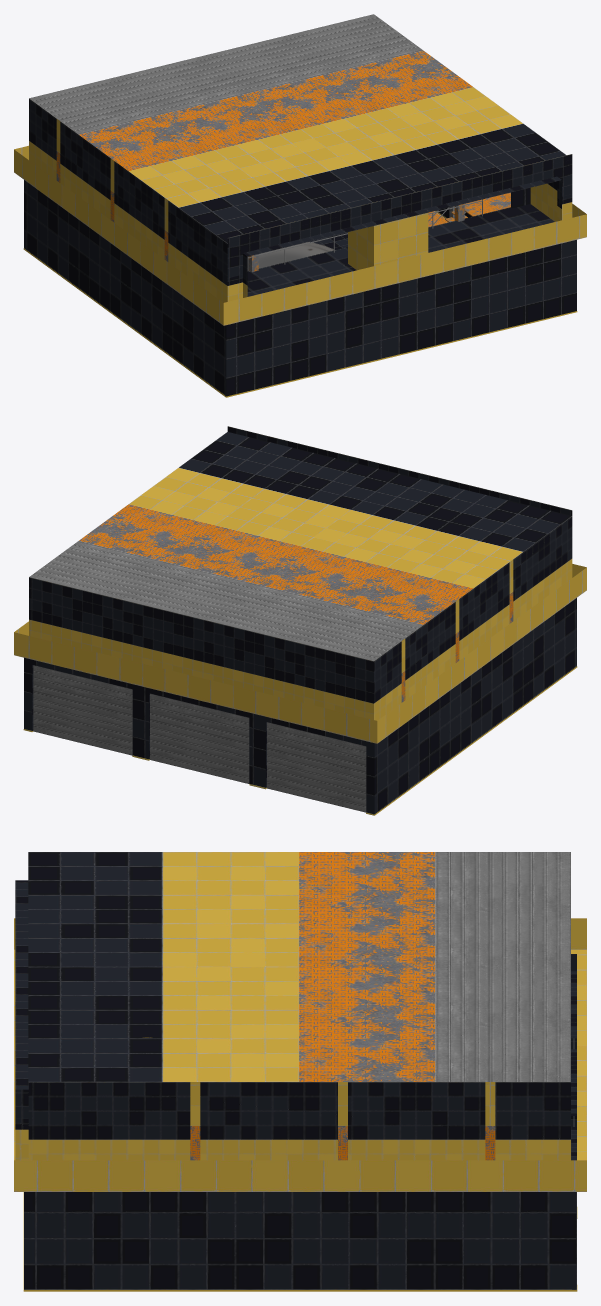
The model's file is garage1.fbx.
3 renders of one model, top to bottom at view 1: azimuth 30°, elevation 25°; view 2: azimuth 150°, elevation 25°; view 3: azimuth 270°, elevation 25°, orthographic. The views are drawn at different scales.
Parts seen in each view (by area): view 1: garage, base; view 2: garage; view 3: garage.
Boxes of the visible parts, x1,y1,x2,y2 form: garage: (14, 14, 586, 397); base: (247, 242, 333, 270); garage: (14, 426, 586, 815); garage: (14, 852, 586, 1291).
Size of the model in its own units: 2000 by 830 by 2000.
2 materials, 2 textured.
